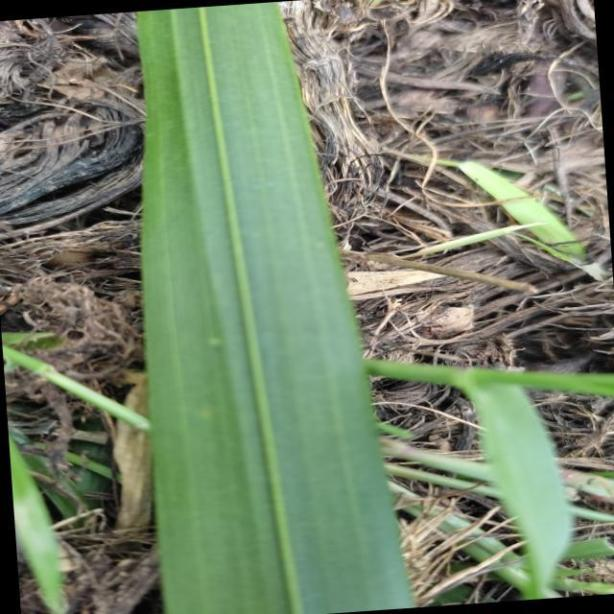Healthy: (138, 5, 414, 614)
